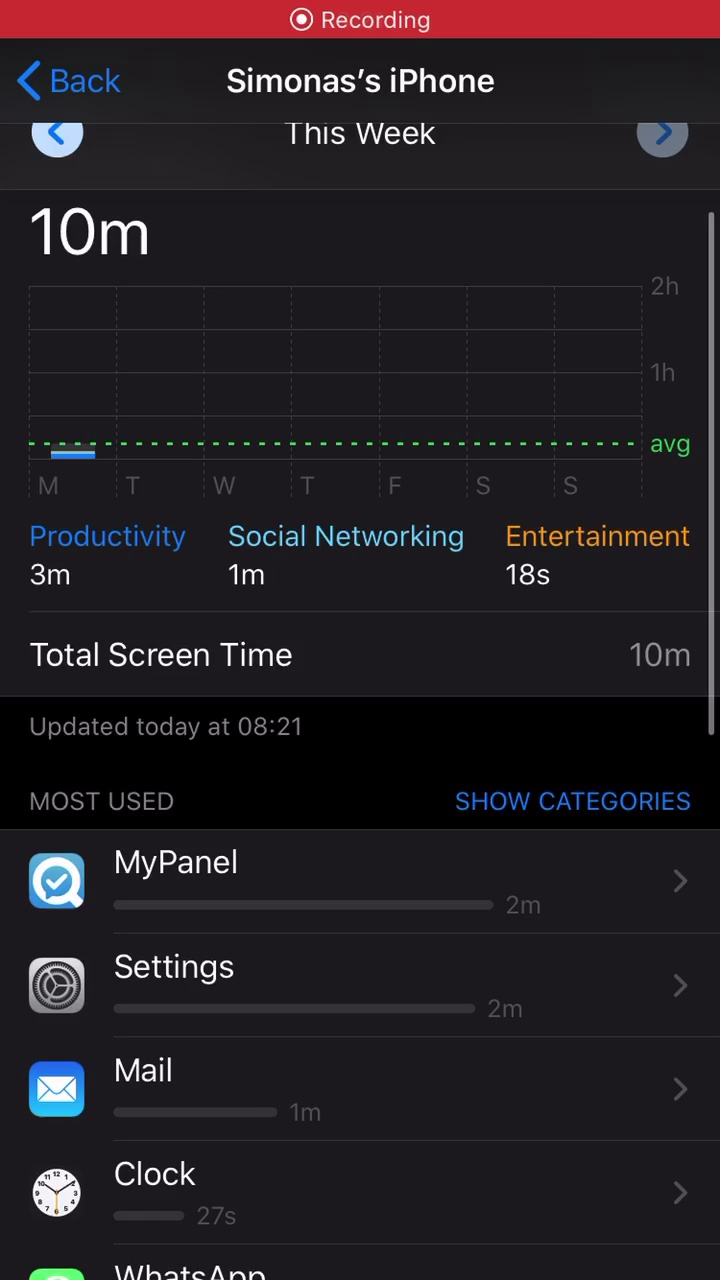use_over: (17, 516, 698, 692)
week: (264, 120, 473, 154)
